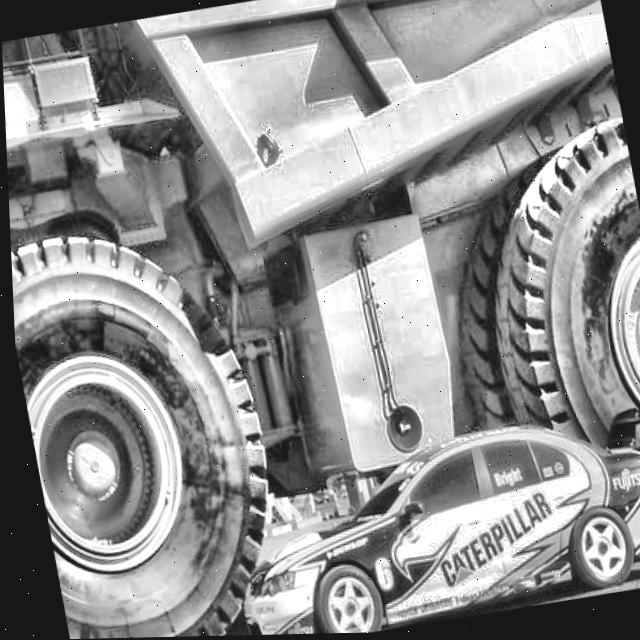dump_truck: (0, 0, 640, 640)
light_vehicle: (215, 396, 640, 636)
